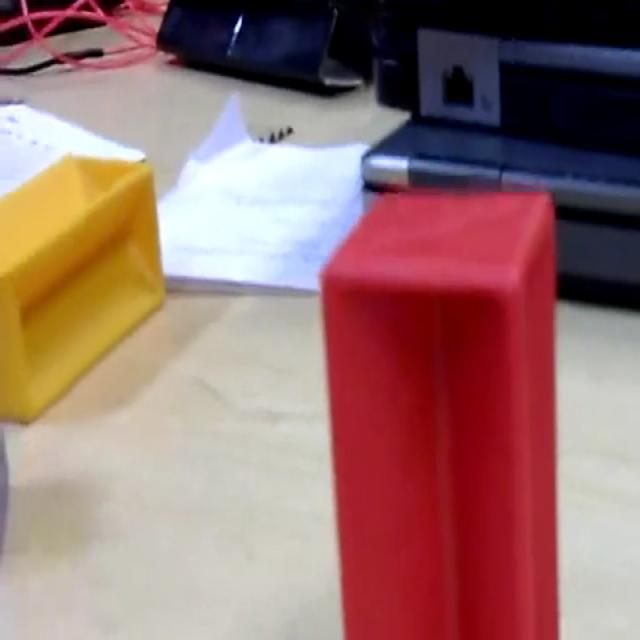red_block: (317, 185, 560, 636)
yellow_block: (0, 149, 166, 424)
